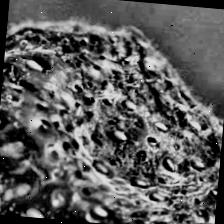Anthracnose Fruit Rot: (16, 45, 224, 224)
